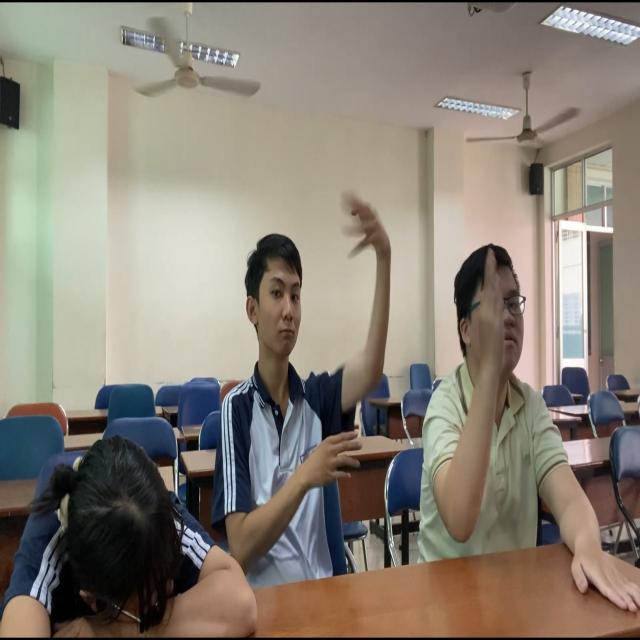raise_hand: (410, 203, 640, 629)
sleep: (1, 391, 285, 640)
